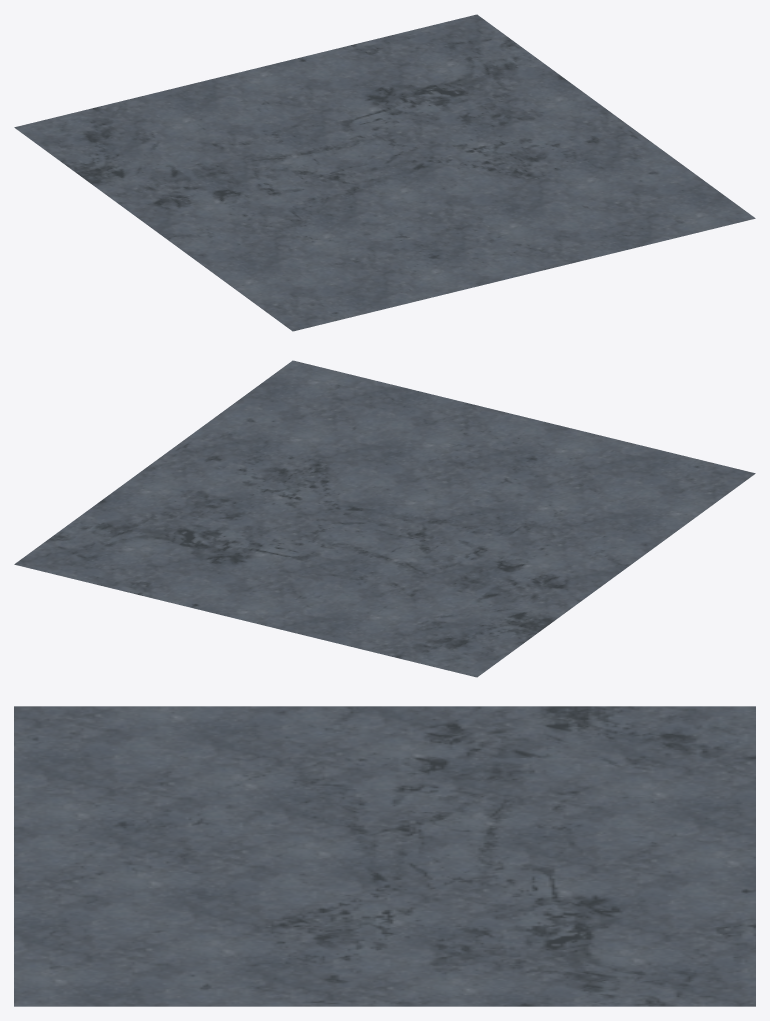
The model's file is HDBFloorDefault 1.fbx.
3 views of the same model, one above another, from view 1: azimuth 30°, elevation 25°; view 2: azimuth 150°, elevation 25°; view 3: azimuth 270°, elevation 25° (orthographic). The views are drawn at different scales.
Parts seen in each view (by area): view 1: HDBFloor; view 2: HDBFloor; view 3: HDBFloor.
Part boxes in pixels (bbox=[...]): HDBFloor: bbox=[14, 14, 755, 331]; HDBFloor: bbox=[14, 360, 755, 677]; HDBFloor: bbox=[14, 706, 755, 1006].
Bounding box in the file's own units: 2107 × 4.26e-12 × 2197.
Materials: 1 (1 with a texture image).
